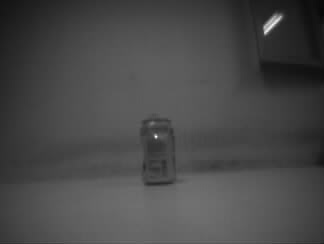Tin can: (139, 112, 177, 185)
